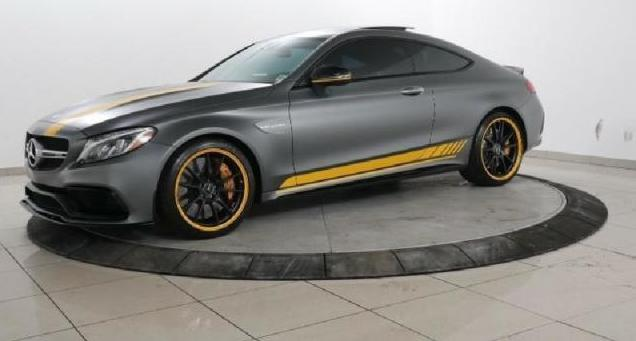C63AMG: (20, 21, 549, 240)
